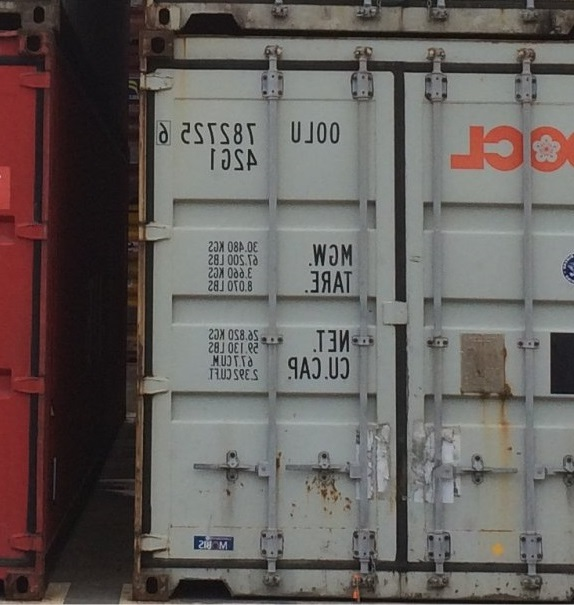container_door: (143, 27, 573, 602)
